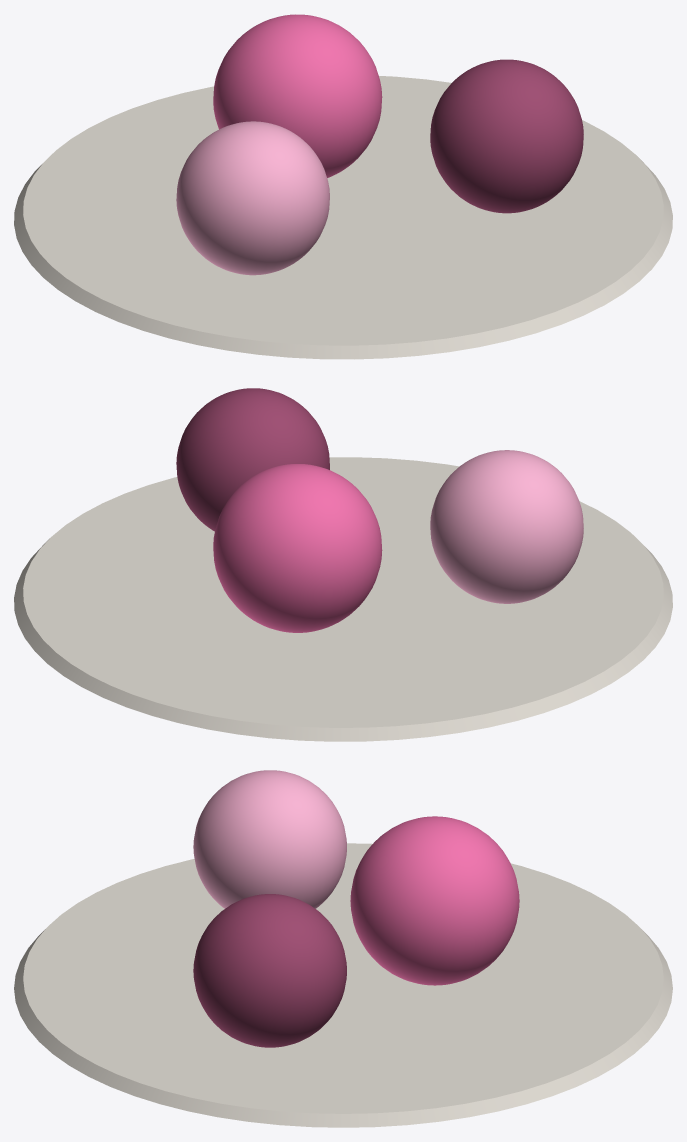
Rendered from pink.glb.
The picture shows the model from 3 angles, top to bottom: view 1: azimuth 30°, elevation 25°; view 2: azimuth 150°, elevation 25°; view 3: azimuth 270°, elevation 25°; orthographic projection.
Parts seen in each view (by area): view 1: base, dark, light, normal; view 2: base, normal, light, dark; view 3: base, normal, dark, light.
Boxes of the visible parts, left/top/right/bottom form: base: left=14, top=76, right=672, bottom=359; dark: left=430, top=59, right=583, bottom=213; light: left=176, top=121, right=329, bottom=275; normal: left=213, top=14, right=382, bottom=177; base: left=14, top=457, right=672, bottom=741; normal: left=213, top=464, right=382, bottom=632; light: left=430, top=450, right=583, bottom=603; dark: left=176, top=388, right=329, bottom=531; base: left=14, top=843, right=672, bottom=1127; normal: left=350, top=816, right=519, bottom=985; dark: left=193, top=894, right=346, bottom=1047; light: left=193, top=770, right=346, bottom=908.
Size of the model in its own units: 3.6 by 0.99 by 3.6.
